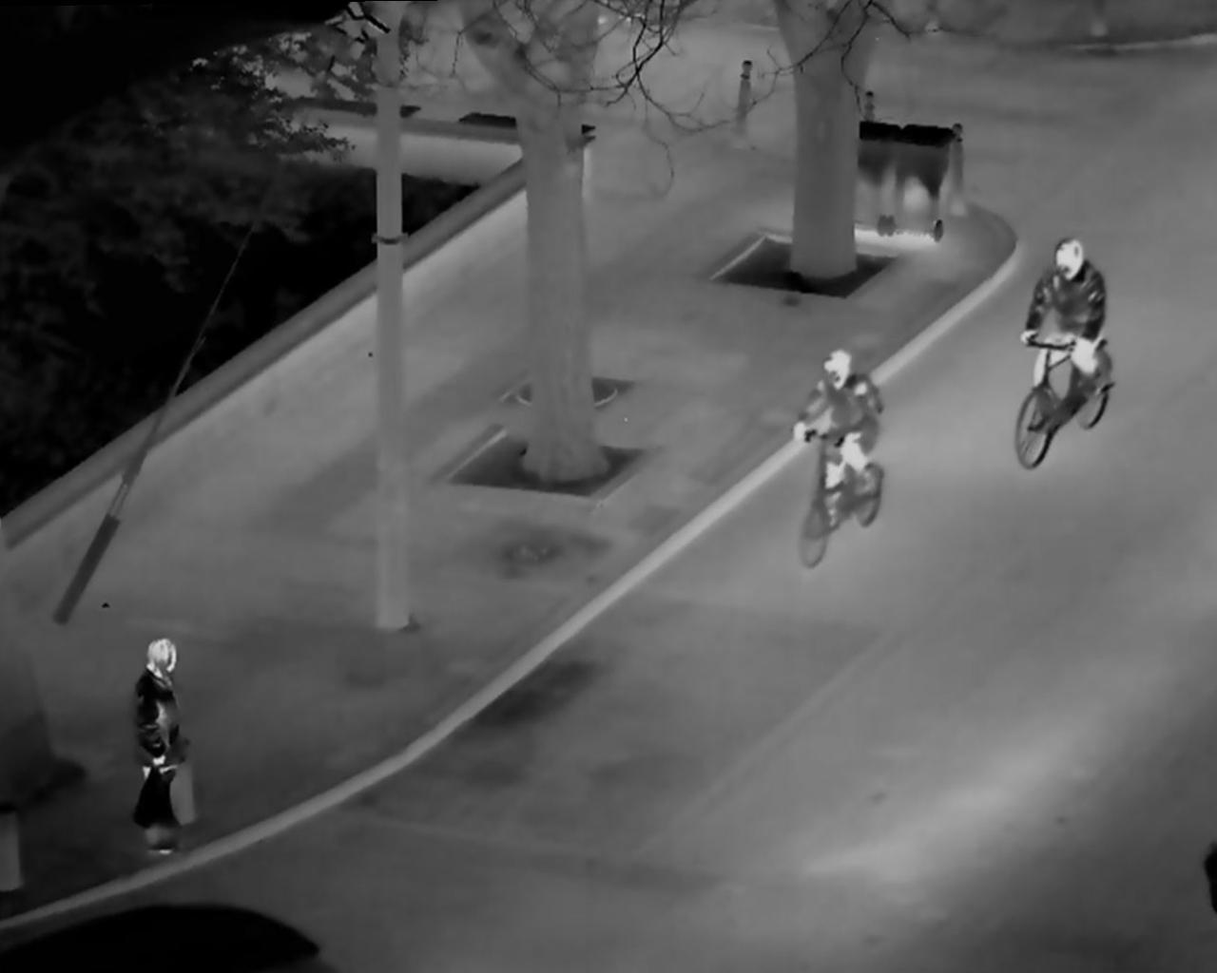person: (1010, 228, 1124, 476), (786, 341, 892, 566), (117, 628, 208, 857)
